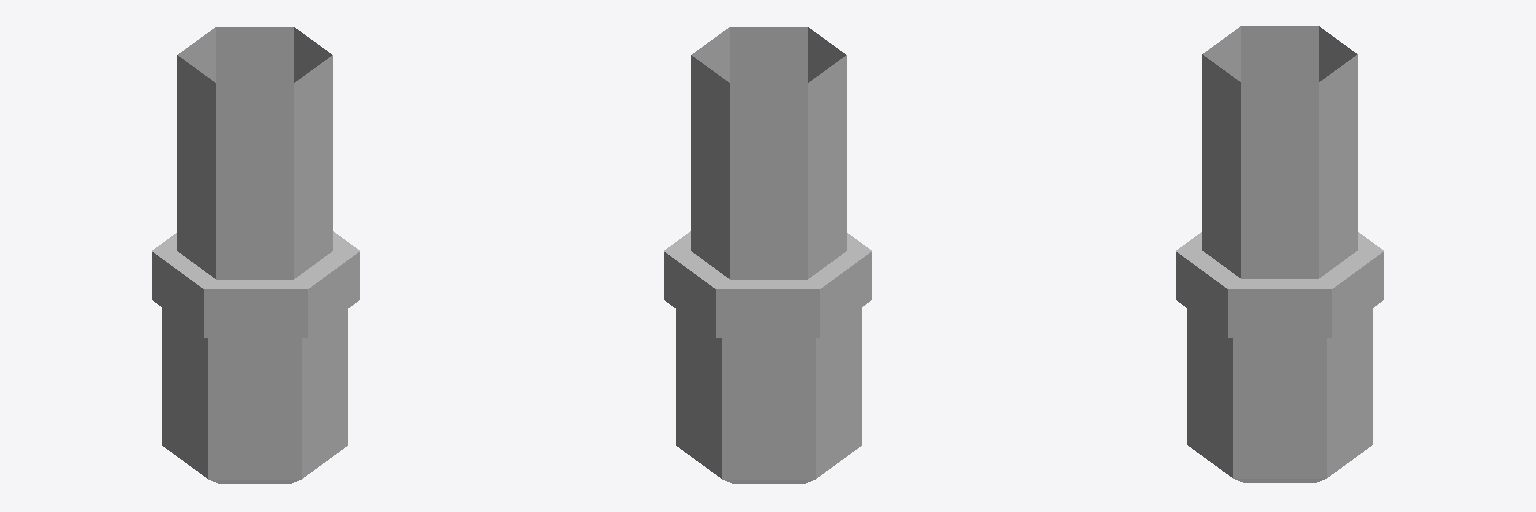
File: pipe_pump.obj
The picture shows the model from 3 angles: view 1: azimuth 30°, elevation 25°; view 2: azimuth 150°, elevation 25°; view 3: azimuth 270°, elevation 25°; orthographic projection.
Parts seen in each view (by area): view 1: Pump_Cylinder; view 2: Pump_Cylinder; view 3: Pump_Cylinder.
Part boxes in pixels (bbox=[...]): Pump_Cylinder: bbox=[152, 27, 359, 483]; Pump_Cylinder: bbox=[664, 27, 871, 483]; Pump_Cylinder: bbox=[1176, 26, 1383, 482].
Size of the model in its own units: 0.2913 by 0.7153 by 0.3363.